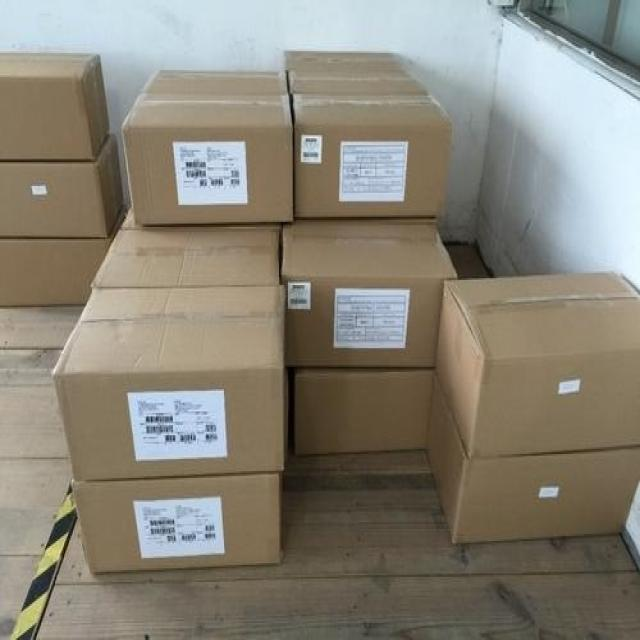Carton: (280, 119, 639, 541), (0, 49, 279, 369), (52, 370, 282, 568), (122, 67, 291, 220), (291, 80, 448, 116), (283, 49, 420, 75)
